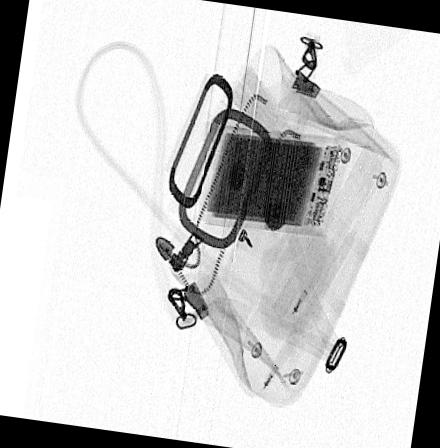Powerbank: (196, 122, 349, 239)
